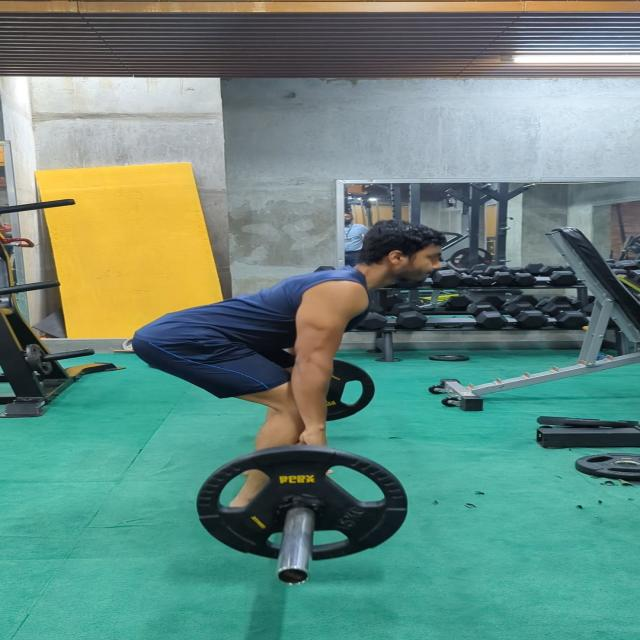Normal_Deadlifts: (129, 221, 448, 513)
